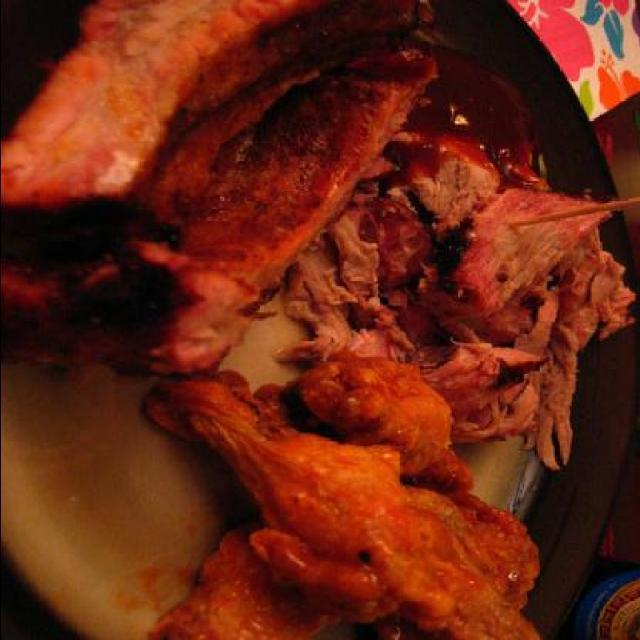Deep fried chicken wing: (113, 41, 435, 365), (182, 386, 524, 638)
